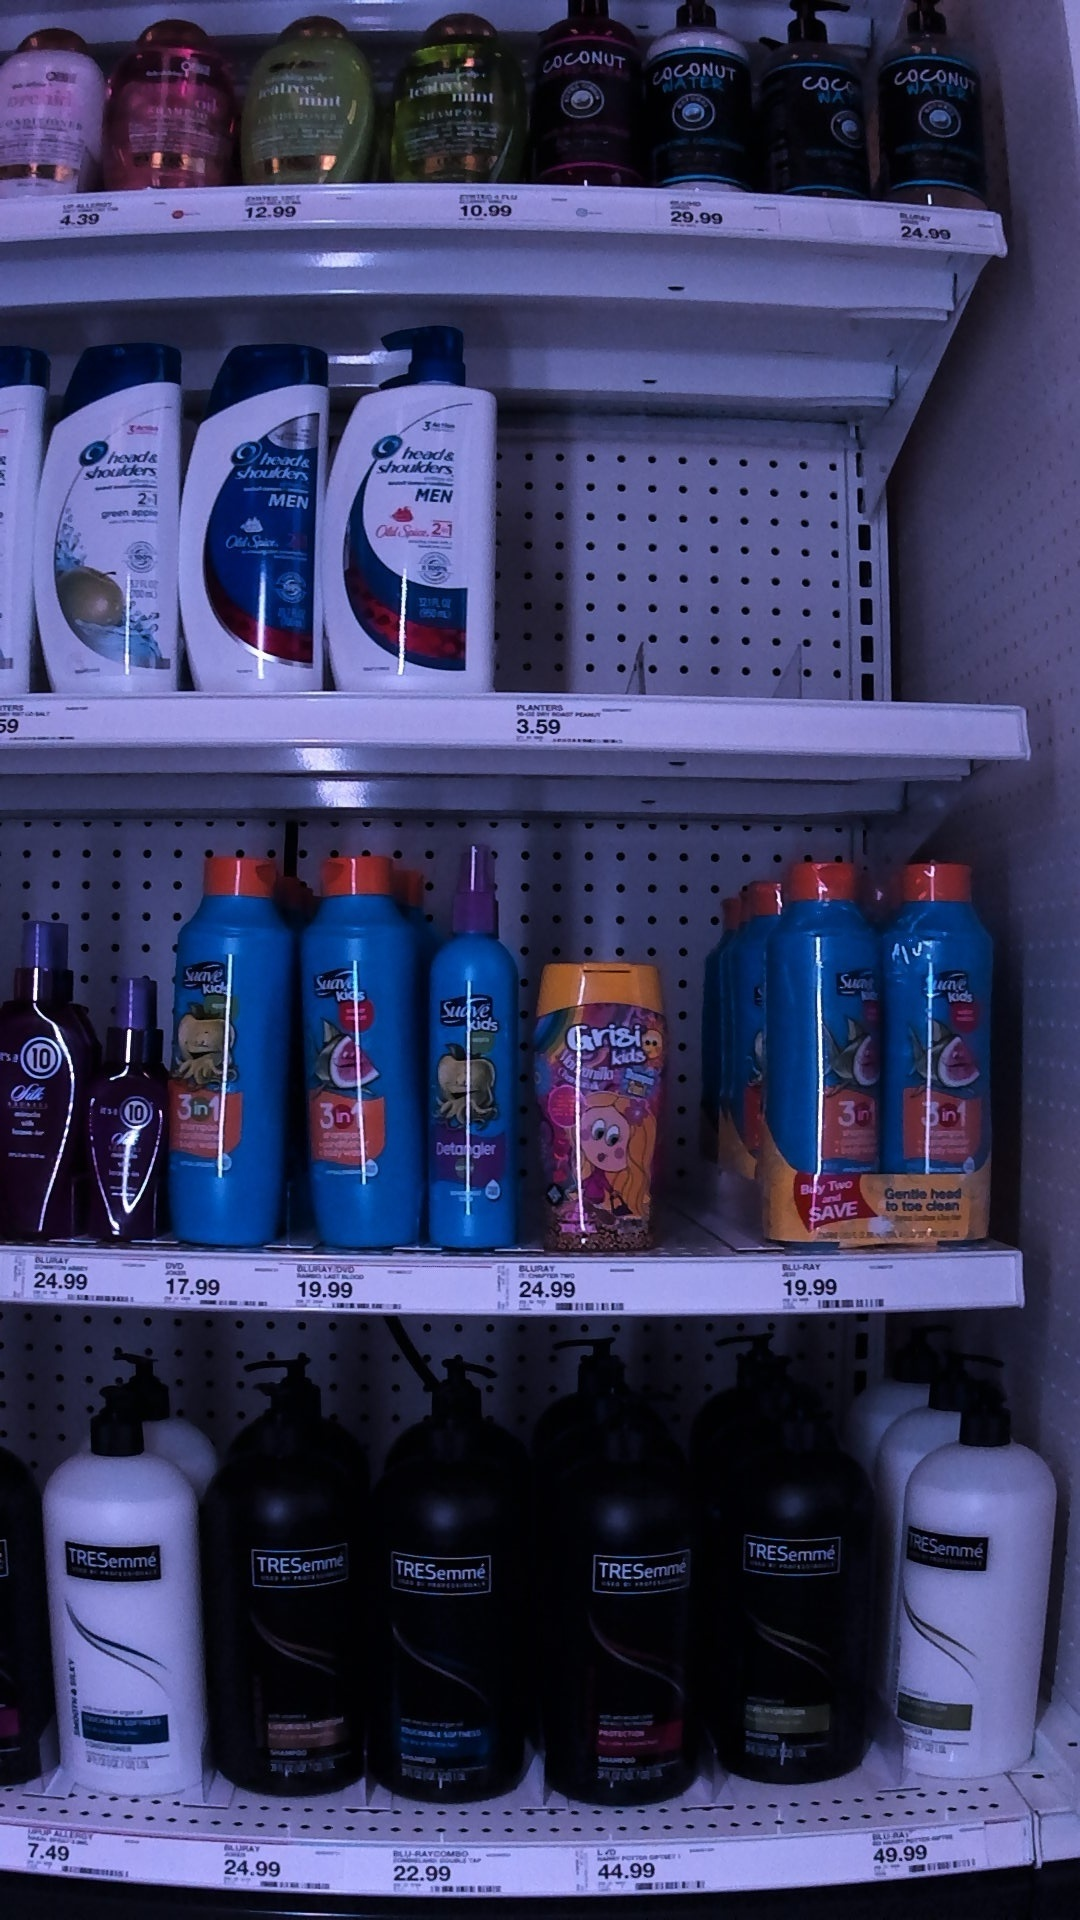ptag: (756, 1257, 898, 1315), (568, 1842, 724, 1895), (20, 1815, 133, 1886), (208, 1836, 328, 1900), (493, 1261, 626, 1317), (378, 1844, 509, 1900), (278, 1262, 411, 1317), (20, 1249, 138, 1309), (872, 1826, 996, 1882), (506, 698, 624, 756), (160, 1251, 264, 1311), (658, 193, 752, 247), (442, 179, 531, 235), (884, 204, 969, 260), (46, 193, 142, 240), (237, 186, 328, 225)
